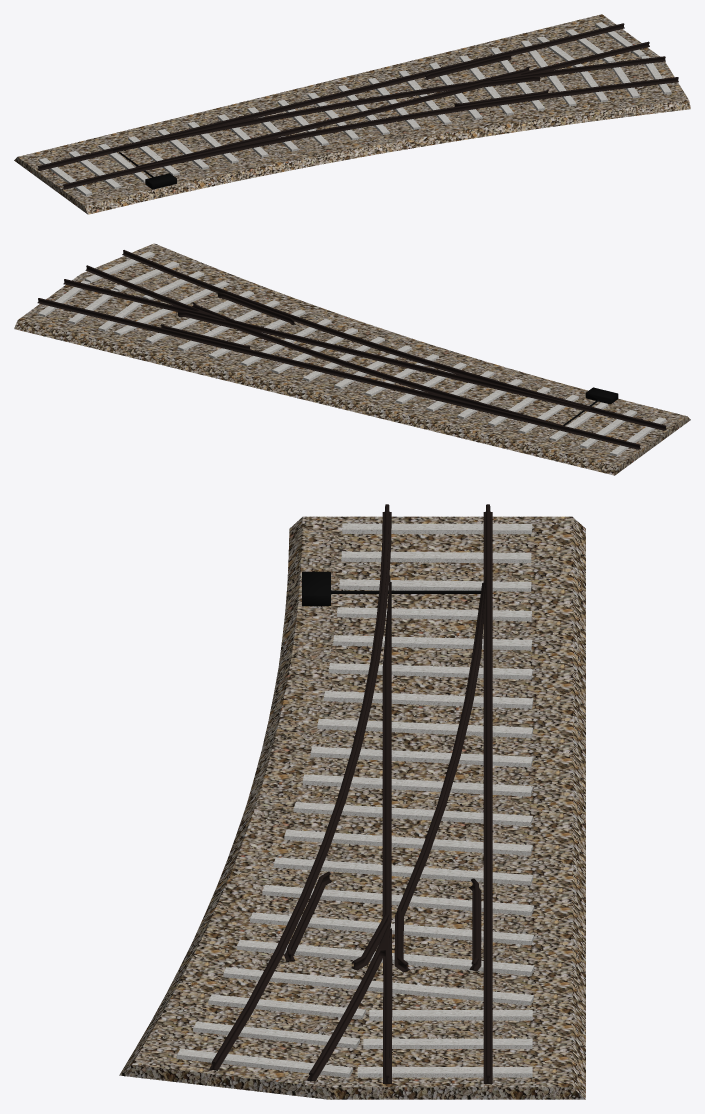
Rendered from voiesFerreesAiguillage.obj.
The picture shows the model from 3 angles, top to bottom: view 1: azimuth 30°, elevation 25°; view 2: azimuth 150°, elevation 25°; view 3: azimuth 270°, elevation 25°; orthographic projection. The views are drawn at different scales.
Parts seen in each view (by area): view 1: ballasCurveAiguillage_Plane.012, aiguillageVoies_BezierCurve.004, traverse20m15degresaiguillage_Cube.012, triangle_Point.010, sweethome3d_opening_on_hinge_1_voie, contreRail2_BezierCurve.010, controleur_Cube.013, sweethome3d_opening_on_hinge_2_voie; view 2: ballasCurveAiguillage_Plane.012, aiguillageVoies_BezierCurve.004, traverse20m15degresaiguillage_Cube.012, triangle_Point.010, sweethome3d_opening_on_hinge_2_voie, contreRail1_Point.005, controleur_Cube.013; view 3: ballasCurveAiguillage_Plane.012, traverse20m15degresaiguillage_Cube.012, aiguillageVoies_BezierCurve.004, triangle_Point.010, controleur_Cube.013, contreRail1_Point.005, sweethome3d_opening_on_hinge_1_voie, contreRail2_BezierCurve.010.
Part boxes in pixels (x1,y1,x2,y2): ballasCurveAiguillage_Plane.012: (14,14,690,214); aiguillageVoies_BezierCurve.004: (37,23,678,189); traverse20m15degresaiguillage_Cube.012: (38,22,671,195); triangle_Point.010: (490,41,665,80); sweethome3d_opening_on_hinge_1_voie: (113,123,235,152); contreRail2_BezierCurve.010: (424,54,511,79); controleur_Cube.013: (119,152,176,189); sweethome3d_opening_on_hinge_2_voie: (135,138,252,167); ballasCurveAiguillage_Plane.012: (14,243,690,475); aiguillageVoies_BezierCurve.004: (37,250,666,449); traverse20m15degresaiguillage_Cube.012: (38,251,665,456); triangle_Point.010: (63,265,225,320); sweethome3d_opening_on_hinge_2_voie: (471,378,590,411); contreRail1_Point.005: (217,292,295,324); controleur_Cube.013: (563,387,618,425); ballasCurveAiguillage_Plane.012: (119,516,585,1099); traverse20m15degresaiguillage_Cube.012: (176,523,534,1077); aiguillageVoies_BezierCurve.004: (209,504,492,1083); triangle_Point.010: (306,922,392,1083); controleur_Cube.013: (302,571,480,606); contreRail1_Point.005: (284,871,332,961); sweethome3d_opening_on_hinge_1_voie: (465,576,485,698); contreRail2_BezierCurve.010: (469,878,481,971).
Bounding box in the file's own units: 2007 × 39.86 × 693.
